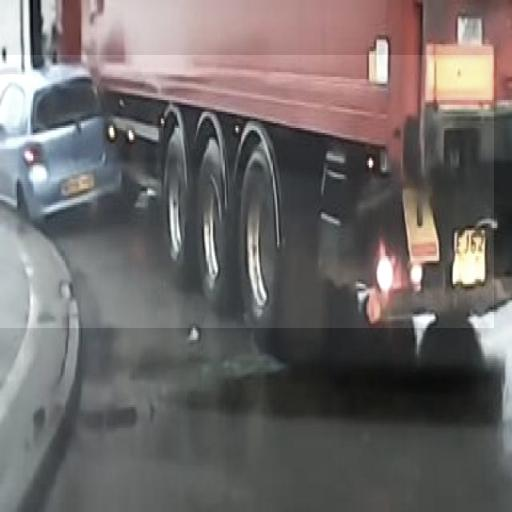小汽车撞小汽车: (0, 55, 494, 328)
